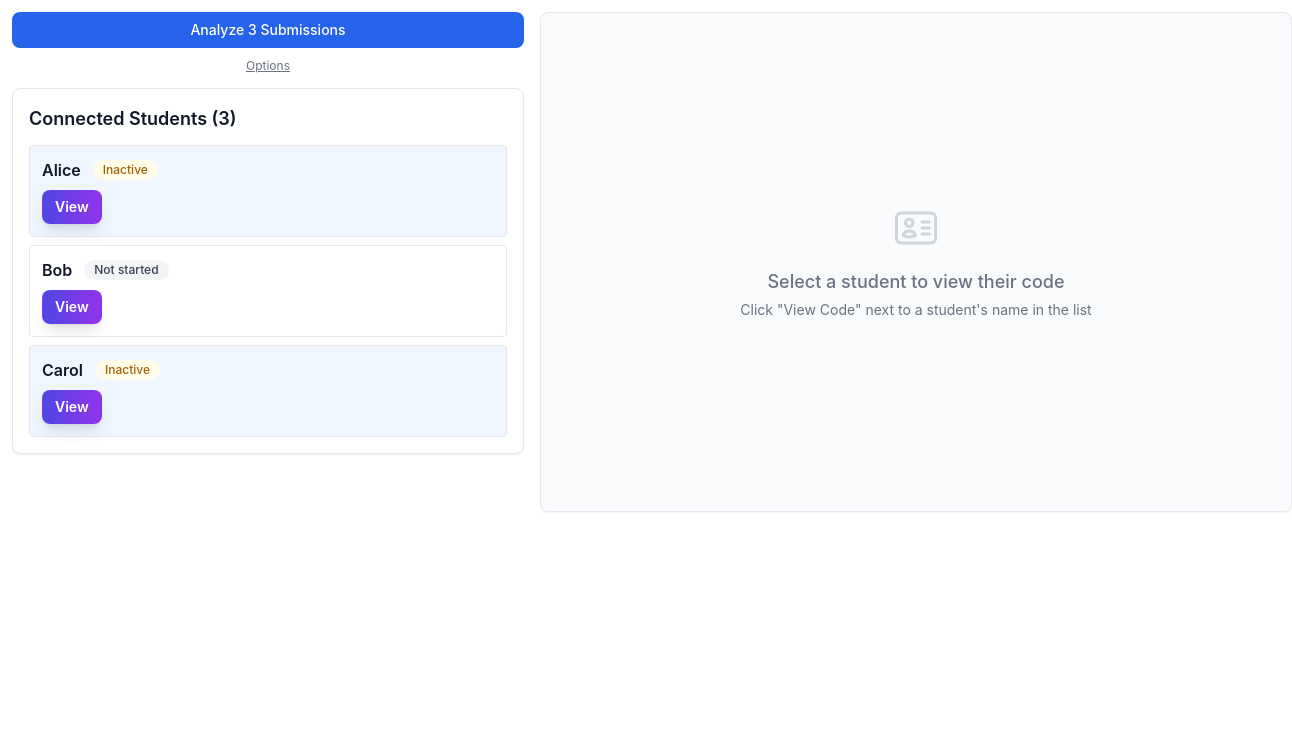
Test case: SessionStudentPane › analysis options panel › clicking the options toggle expands the options panel
Click the button with test id "analysis-options-toggle": (268, 66) [246, 58, 290, 74]
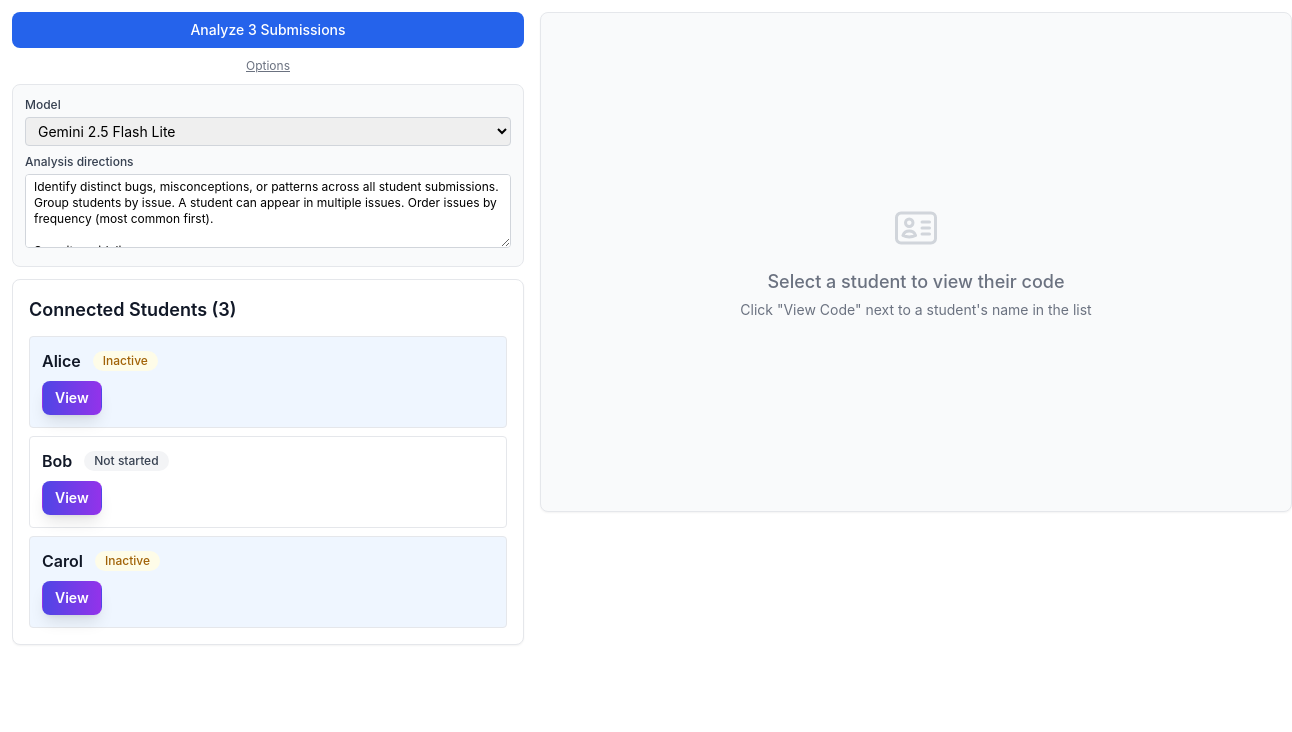
Now the element with test id "analysis-options-panel" is shown, box [12, 84, 524, 267]
